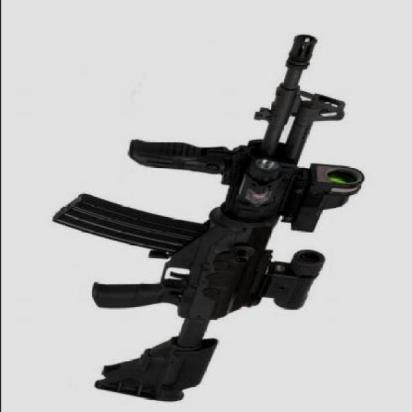Gun: (61, 36, 348, 398)
